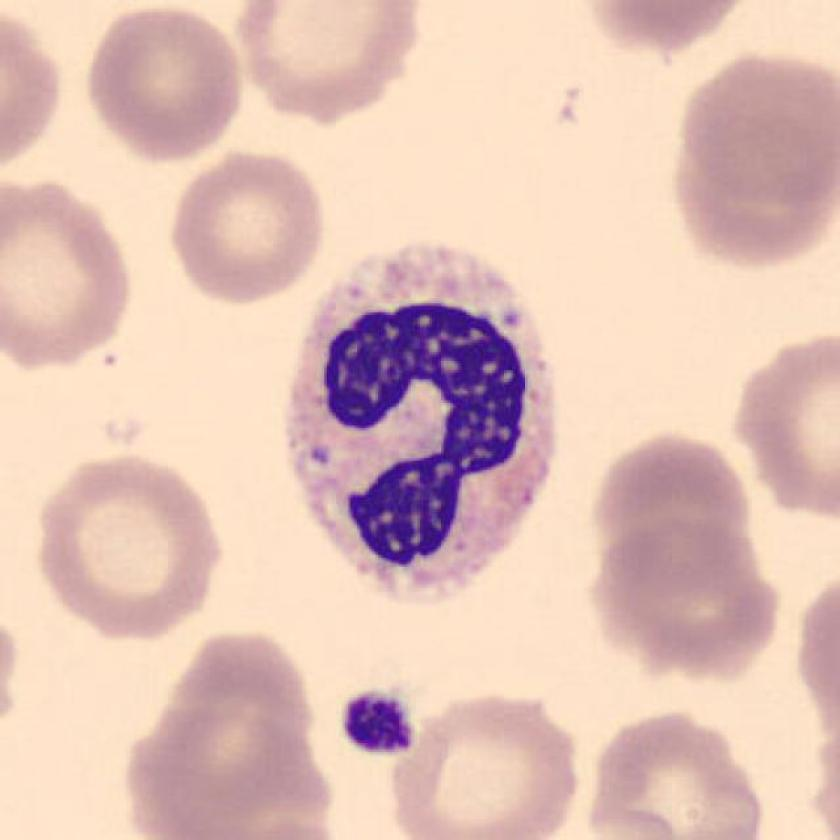neutrophil: (285, 244, 560, 599)
